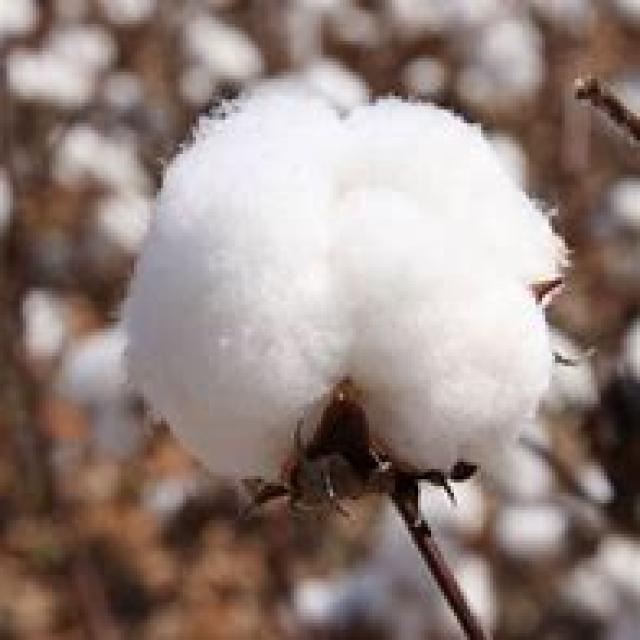Matured Cotton Boll: (103, 77, 561, 501)
